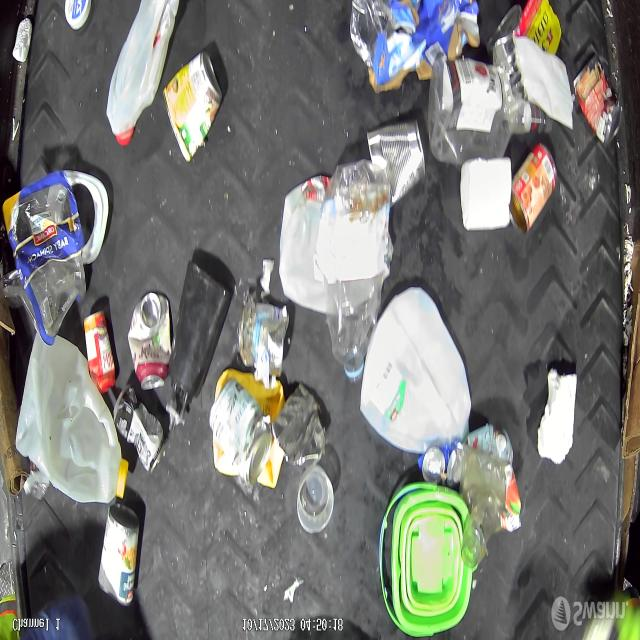can: (208, 378, 274, 488), (165, 48, 225, 161), (366, 118, 426, 210), (113, 385, 167, 475), (99, 500, 142, 608), (272, 384, 326, 469), (574, 52, 622, 147), (508, 142, 556, 235), (127, 289, 171, 390), (84, 309, 118, 396), (418, 444, 452, 486)
milk_jug: (360, 288, 473, 457), (18, 335, 127, 505), (277, 175, 383, 318), (107, 1, 184, 147)
